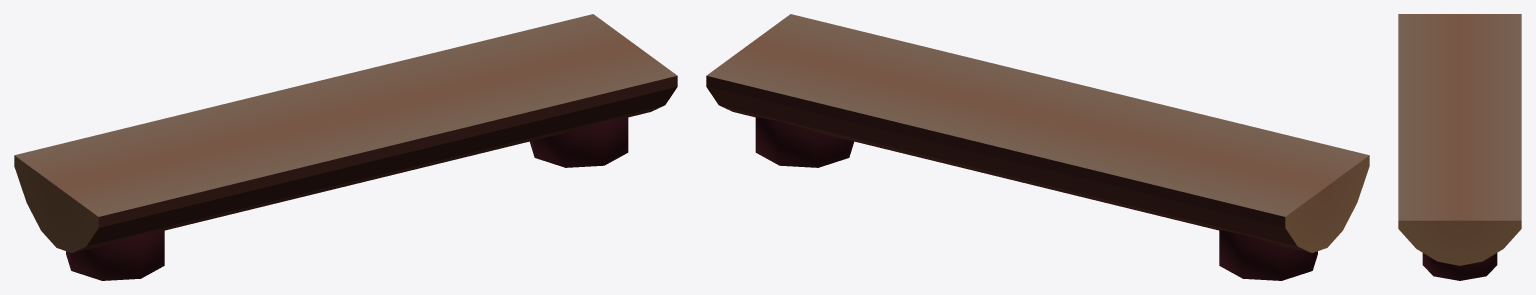
Rendered from LogBench1.fbx.
The picture shows the model from 3 angles, left to right: view 1: azimuth 30°, elevation 25°; view 2: azimuth 150°, elevation 25°; view 3: azimuth 270°, elevation 25°; orthographic projection. The views are drawn at different scales.
Parts seen in each view (by area): view 1: Cube.090; view 2: Cube.090; view 3: Cube.090.
Part boxes in pixels (bbox=[...]): Cube.090: bbox=[14, 14, 677, 280]; Cube.090: bbox=[706, 14, 1369, 280]; Cube.090: bbox=[1398, 14, 1521, 280].
Bounding box in the file's own units: 396 × 57.82 × 100.
